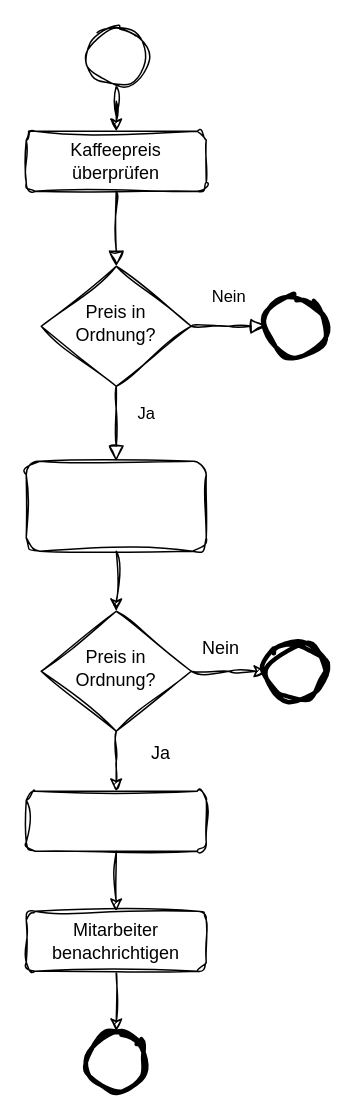
Some shapes in this 354 by 1119 pixel diagram are drawn without their labels. The shapes that lost their labels are listed below. From the top down, each one's centre as x and y in pixels, then its label:
At pixel 115 505: "Mitarbeiter prüft".
At pixel 115 820: "Kaffee bestellen".
